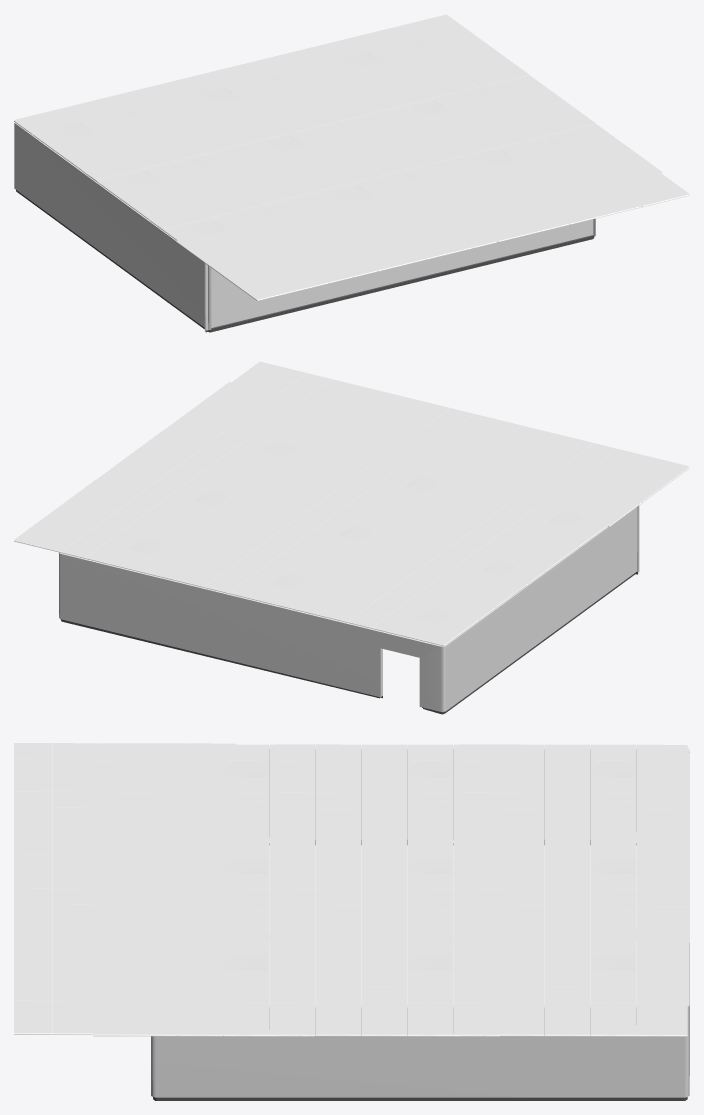
The model's file is pared (2).fbx.
The picture shows the model from 3 angles, top to bottom: view 1: azimuth 30°, elevation 25°; view 2: azimuth 150°, elevation 25°; view 3: azimuth 270°, elevation 25°; orthographic projection. The views are drawn at different scales.
Parts seen in each view (by area): view 1: arquitectura8, pared1; view 2: arquitectura8, pared1; view 3: arquitectura8, pared1.
Part boxes in pixels (x1=…): arquitectura8: x1=14, y1=14, x2=689, y2=332; pared1: x1=14, y1=122, x2=595, y2=332; arquitectura8: x1=14, y1=361, x2=689, y2=646; pared1: x1=59, y1=507, x2=637, y2=714; arquitectura8: x1=14, y1=743, x2=687, y2=1036; pared1: x1=151, y1=747, x2=689, y2=1100.
Bounding box in the file's own units: 2158 × 341 × 2113.
1 material, 1 textured.
